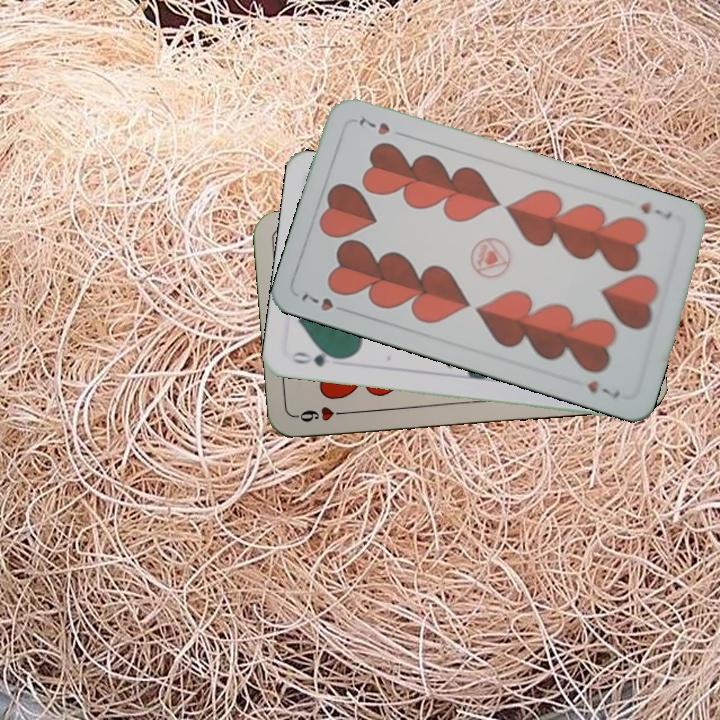GO: (288, 346, 346, 370)
H7: (297, 289, 337, 314), (637, 198, 675, 222)
H9: (292, 402, 352, 425)
